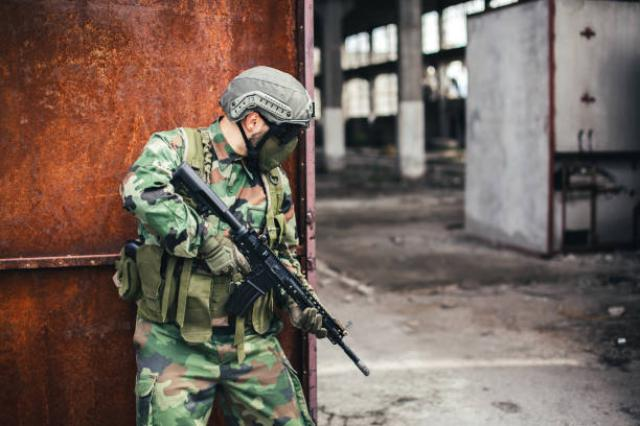other: (126, 72, 332, 422)
